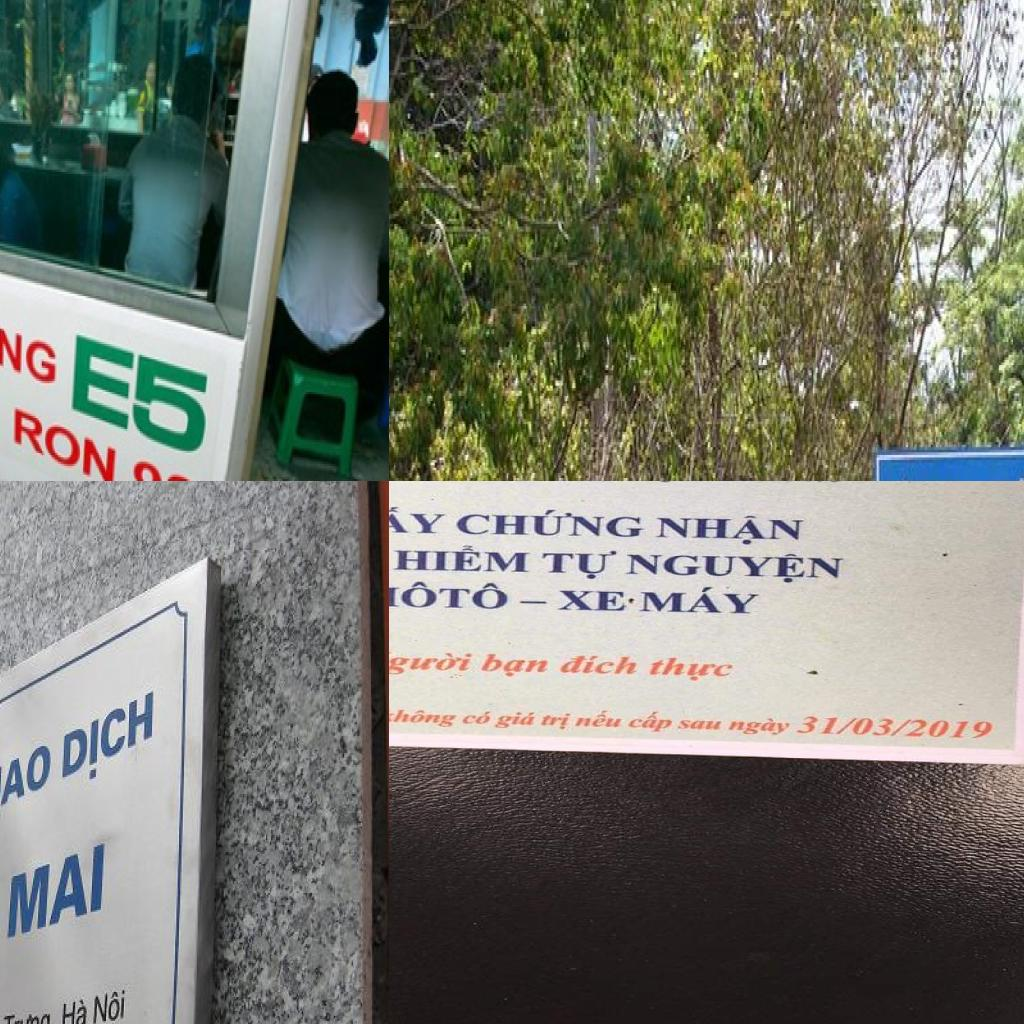text: (68, 331, 212, 462), (61, 681, 156, 796), (6, 836, 107, 942), (9, 402, 119, 481), (624, 551, 848, 585), (454, 508, 648, 540), (0, 296, 61, 394), (654, 514, 806, 548), (389, 543, 534, 576), (0, 734, 53, 824), (389, 578, 513, 612), (636, 586, 765, 616), (641, 656, 743, 683), (538, 549, 620, 581), (389, 649, 477, 678), (474, 652, 557, 679), (555, 654, 650, 677), (128, 453, 201, 481), (389, 504, 450, 535), (554, 589, 630, 613), (724, 715, 800, 738), (389, 706, 461, 729), (90, 983, 129, 1024), (624, 708, 679, 734), (572, 709, 631, 731), (0, 1002, 57, 1024), (60, 992, 90, 1024), (492, 711, 541, 730), (538, 711, 576, 732), (674, 718, 726, 732), (459, 709, 496, 726)
